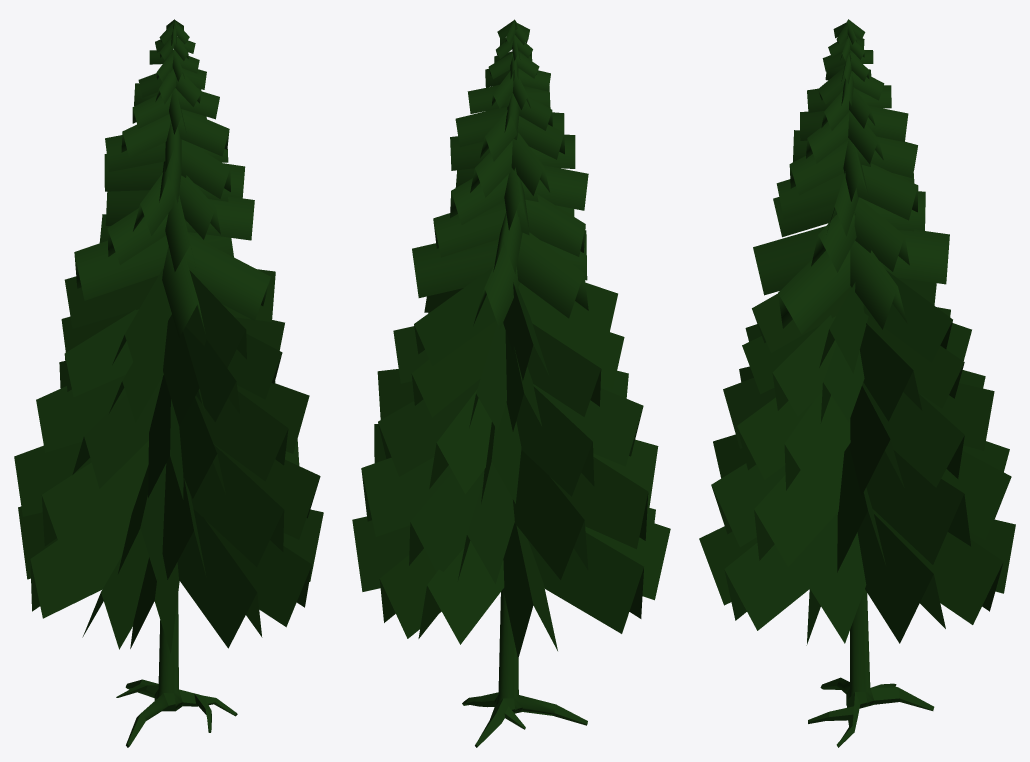
Rendered from Tree.FBX.
The picture shows the model from 3 angles, left to right: view 1: azimuth 30°, elevation 25°; view 2: azimuth 150°, elevation 25°; view 3: azimuth 270°, elevation 25°; orthographic projection.
Parts seen in each view (by area): view 1: Tree 01; view 2: Tree 01; view 3: Tree 01.
Boxes of the visible parts, x1,y1,x2,y2 form: Tree 01: [14, 19, 323, 747]; Tree 01: [352, 19, 670, 747]; Tree 01: [699, 19, 1015, 747].
Size of the model in its own units: 1.91 by 4.85 by 1.97.
